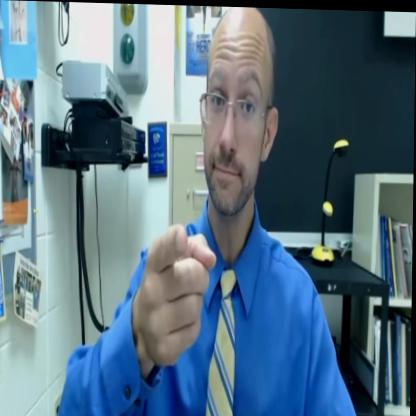HowAreYou: (110, 3, 315, 416)
